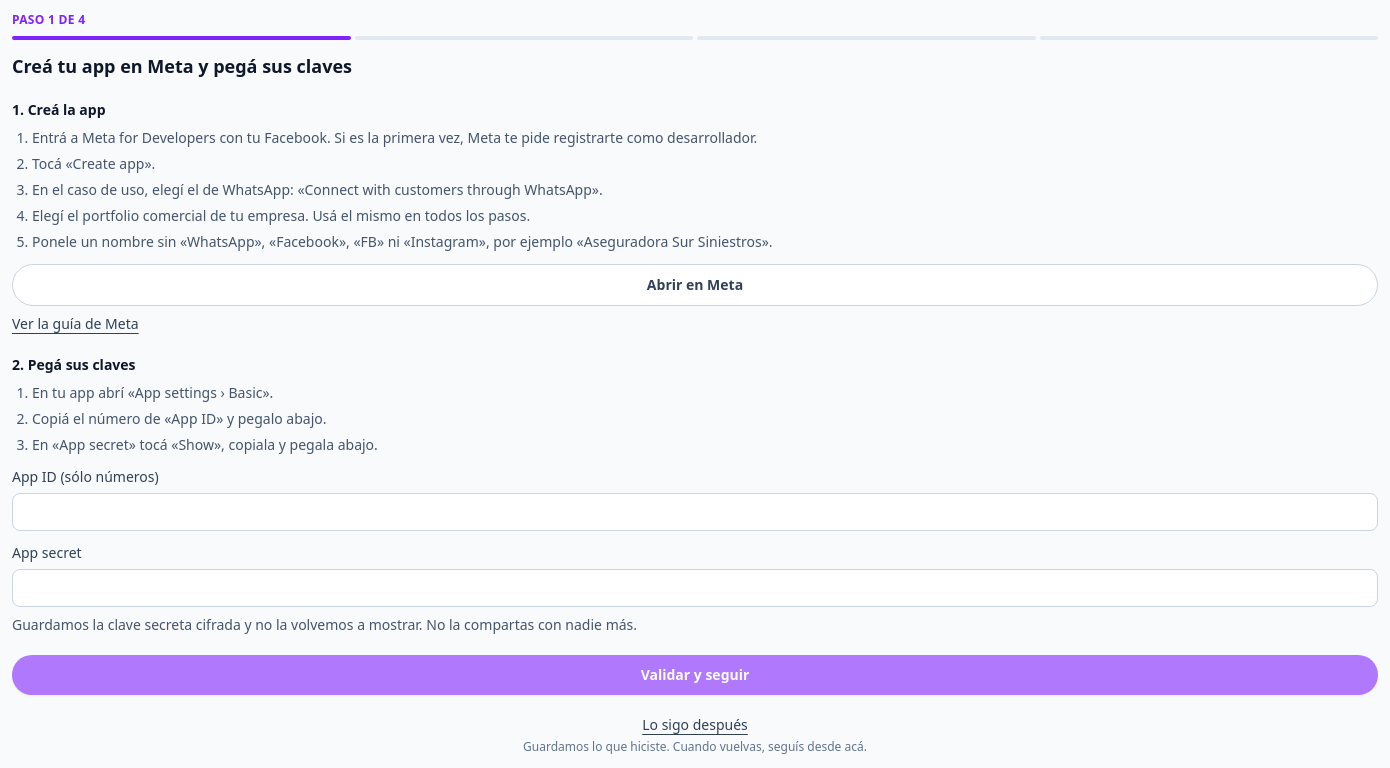
P1: crear la app y pegar sus claves › el cartel de «es un token» manda al paso 3
The width and height of the screenshot is (1390, 768).
Type "123456789012345" into the field labelled "App ID (sólo números)" at (695, 512), box [12, 493, 1378, 531]
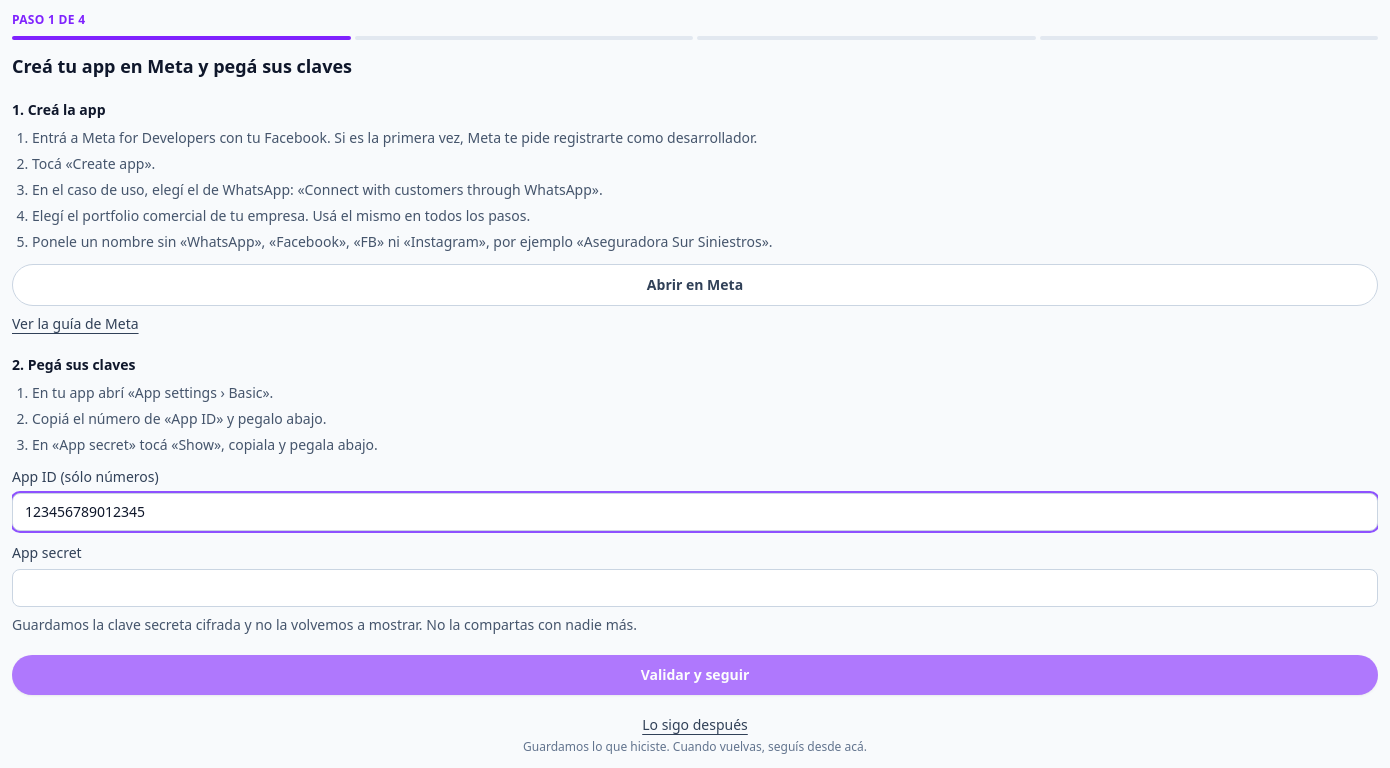
Type "fake-system-token-1" into the password field labelled "App secret" at (695, 588), box [12, 569, 1378, 607]
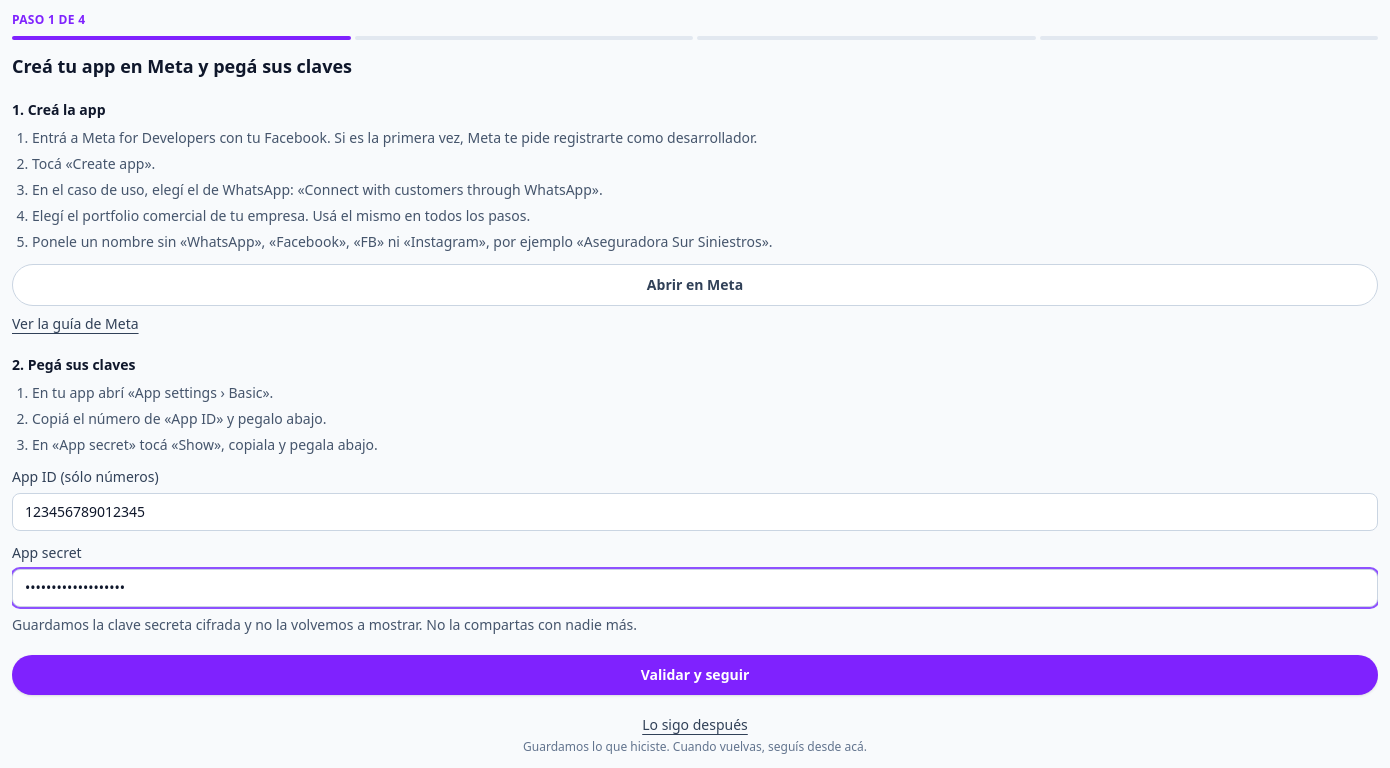
Click the button "Validar y seguir" at (695, 675), box [12, 655, 1378, 695]
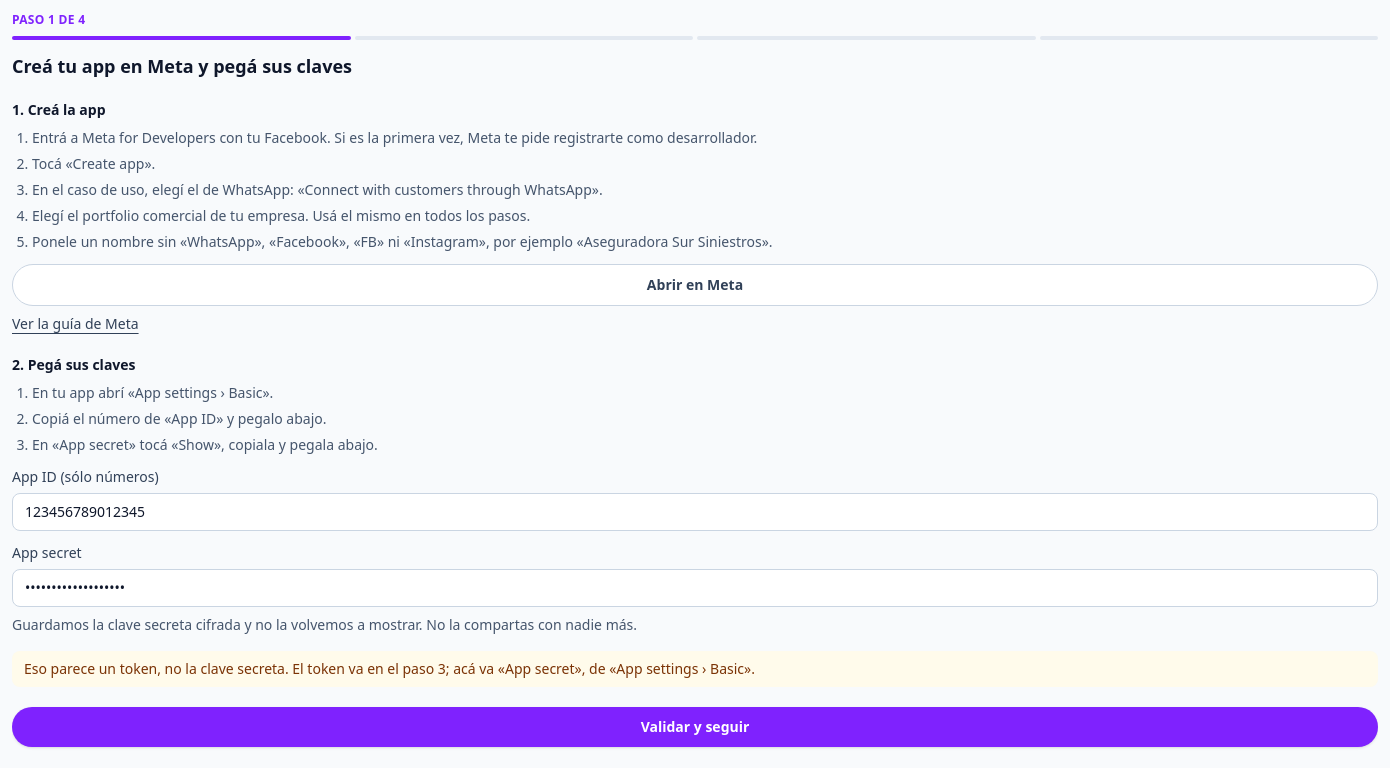
Result: the message shows "Eso parece un token, no la clave secreta. El token va en el paso 3; acá va «App secret», de «App settings › Basic»." at [24, 659, 755, 678]
